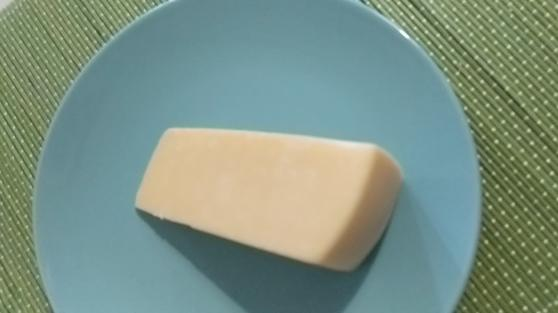cheese: (133, 122, 402, 272)
